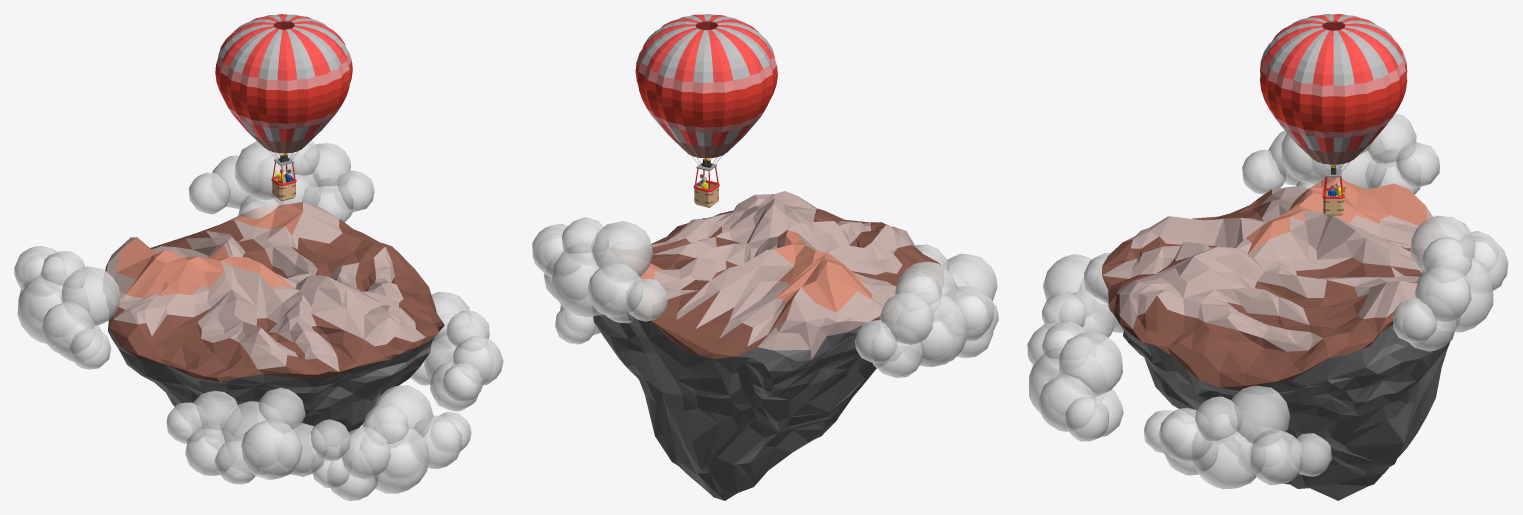
Rendered from land_73.fbx.
3 views of the same model, side by side, from view 1: azimuth 30°, elevation 25°; view 2: azimuth 150°, elevation 25°; view 3: azimuth 270°, elevation 25° (orthographic). The views are drawn at different scales.
Visible parts, largest first — view 1: _Group31683, land_73.012, Sphere.030, Sphere.009, Sphere.032, Sphere.031, _Group31683.001, land_73.010; view 2: _Group31683, land_73.012, Sphere.032, Sphere.031, Sphere.030, _Group31683.001, land_73.010; view 3: _Group31683, land_73.012, _Group31683.001, Sphere.032, Sphere.009, Sphere.031, Sphere.030, land_73.010.
Boxes of the visible parts, x1,y1,x2,y2 form: _Group31683: [105, 202, 444, 432]; land_73.012: [215, 14, 352, 153]; Sphere.030: [166, 387, 350, 484]; Sphere.009: [311, 385, 471, 500]; Sphere.032: [188, 140, 374, 222]; Sphere.031: [14, 246, 120, 369]; _Group31683.001: [410, 291, 503, 411]; land_73.010: [269, 151, 298, 201]; _Group31683: [593, 191, 941, 500]; land_73.012: [635, 14, 777, 158]; Sphere.032: [532, 217, 667, 323]; Sphere.031: [855, 261, 994, 377]; Sphere.030: [915, 244, 998, 358]; _Group31683.001: [555, 305, 600, 344]; land_73.010: [690, 155, 722, 207]; _Group31683: [1102, 177, 1450, 500]; land_73.012: [1260, 14, 1407, 164]; _Group31683.001: [1144, 385, 1331, 489]; Sphere.032: [1393, 215, 1508, 351]; Sphere.009: [1027, 321, 1123, 441]; Sphere.031: [1242, 113, 1439, 194]; Sphere.030: [1042, 253, 1123, 337]; land_73.010: [1317, 161, 1350, 215].
Bounding box in the file's own units: 28.22 × 28.56 × 25.83.
